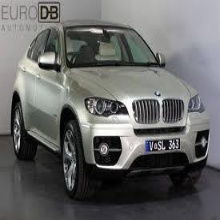no damage: (10, 20, 211, 200)
